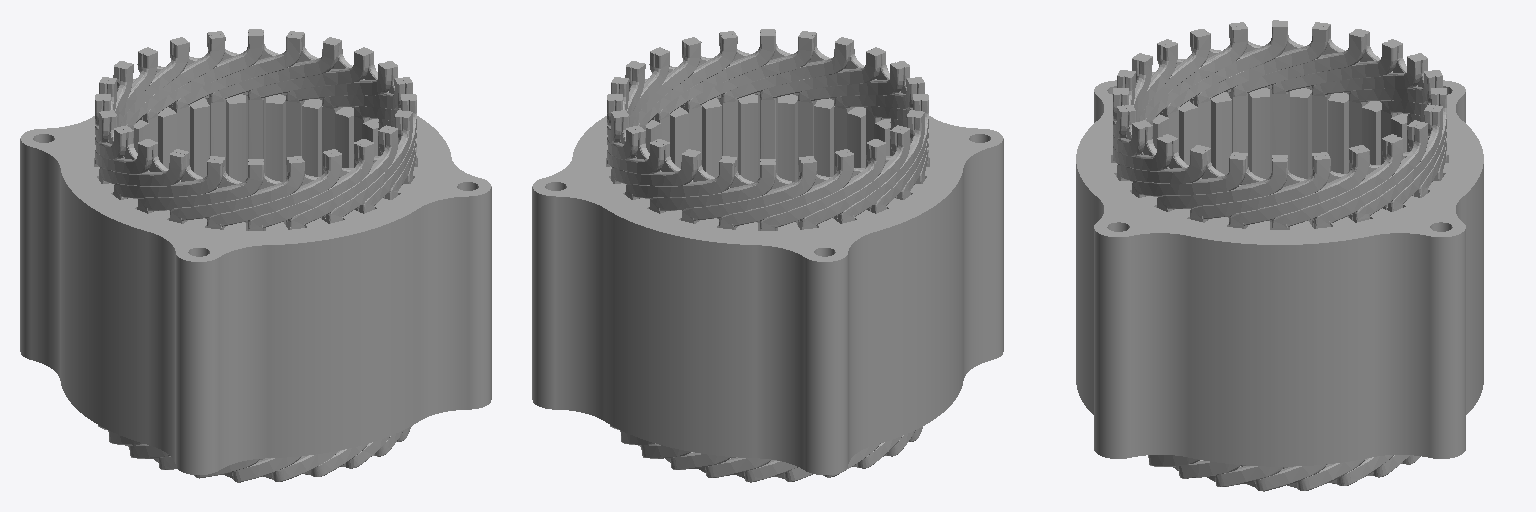
URDF robot description (St):
<robot name="St">
	<link name="baselink" />
	<joint name="dummy" type="fixed">
		<parent link="baselink" />
		<child link="geometry" />
	</joint>
	<link name="geometry">
		<contact>
			<lateral_friction value="1.0" />
			<spinning_friction value="0.2" />
			<rolling_friction value="0.001" />
			<contact_cfm value="0.0" />
			<contact_erp value="0.8" />
			<damping value="1000" />
			<stiffness value="30000" />
		</contact>
		<inertial>
			<origin rpy="0 0 0" xyz="-0.00947463286754977 0.03637344973157381 46.35714385798755" />
			<mass value="1.0" />
			<inertia ixx="1" ixy="0" ixz="0" iyy="1" iyz="0" izz="1" />
		</inertial>
		<visual>
			<origin rpy="0 0 0" xyz="0 0 0" />
			<geometry>
				<mesh filename="mesh/St.stl" />
			</geometry>
			<material name="base">
				<color rgba="0.7 0.7 0.7 1" />
			</material>
		</visual>
		<collision>
			<origin rpy="0 0 0" xyz="0 0 0" />
			<geometry>
				<mesh filename="mesh/St.stl" />
			</geometry>
		</collision>
	</link>
</robot>

--- Facts derived from the render (not from the file) ---
3 views of the same robot in one strip: view 1: azimuth 30°, elevation 25°; view 2: azimuth 150°, elevation 25°; view 3: azimuth 270°, elevation 25° (orthographic).
Robot: St — 2 links, 1 joints (1 fixed); root link baselink; default pose: all joints at 0.
Visible links, largest first — view 1: geometry; view 2: geometry; view 3: geometry.
Boxes of the visible links, bbox=[...] form: geometry: bbox=[20, 29, 491, 482]; geometry: bbox=[532, 29, 1003, 482]; geometry: bbox=[1076, 20, 1483, 491].
Bounding box of the posed robot: 100 × 100 × 89.84 m (x, y, z).
Meshes: 1 distinct files referenced, 1 mesh visuals loaded (1 binary STL).